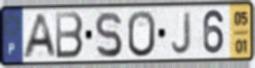6: (202, 9, 226, 56)
A: (20, 13, 59, 60)
B: (54, 10, 85, 61)
J: (170, 10, 193, 56)
O: (126, 9, 158, 59)
S: (93, 10, 124, 60)
